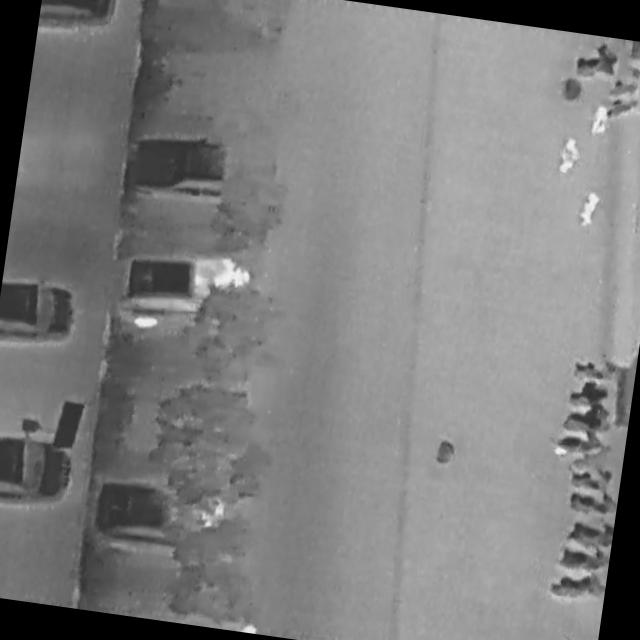person: (574, 187, 605, 233), (556, 133, 585, 178), (590, 102, 613, 140)
